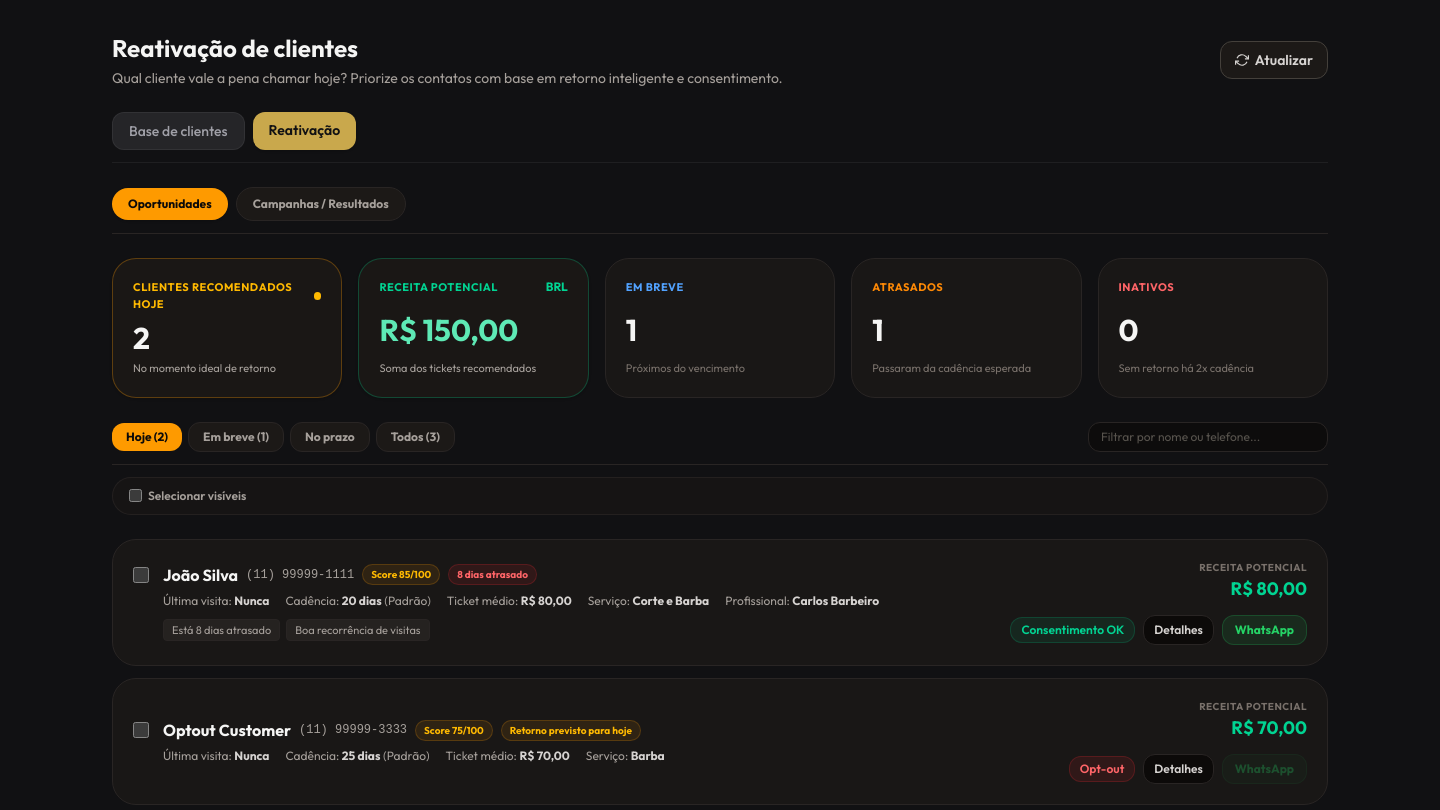
Smart CRM R4 — UI Component Tests › switches tabs correctly to Em breve
This screenshot has width=1440, height=810.
Expected: the text "João Silva" is shown, top-left (163, 563), bottom-right (238, 587)
Step 1. Click the tab "Em breve (1)" → (236, 436), box top-left (188, 422), bottom-right (284, 452)
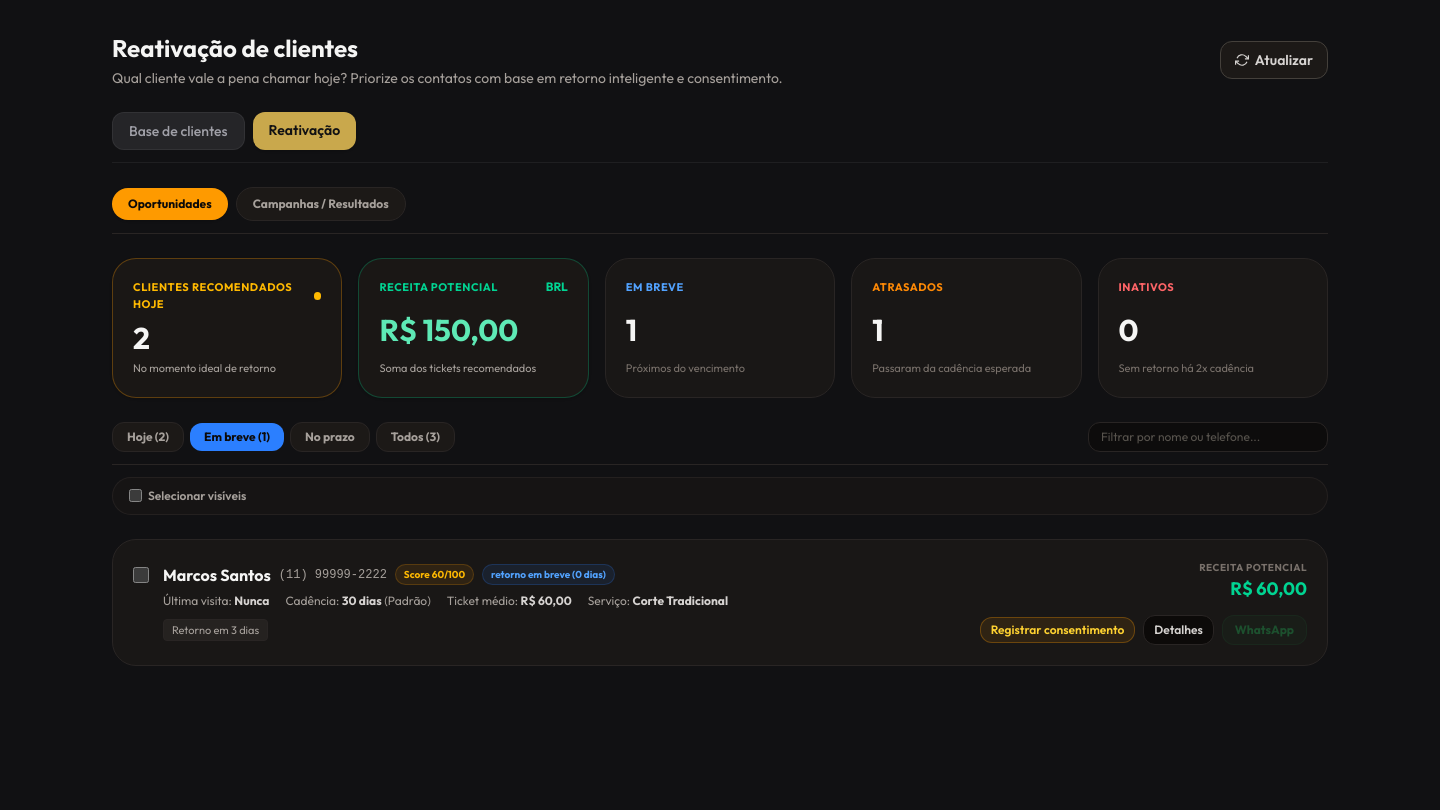
Expected: the text "Marcos Santos" is shown, top-left (163, 563), bottom-right (271, 587)
Expected: the button "Registrar consentimento" is shown, top-left (980, 616), bottom-right (1135, 642)
